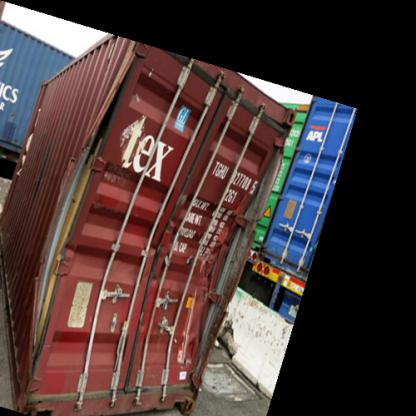Damage: (30, 125, 100, 333)
